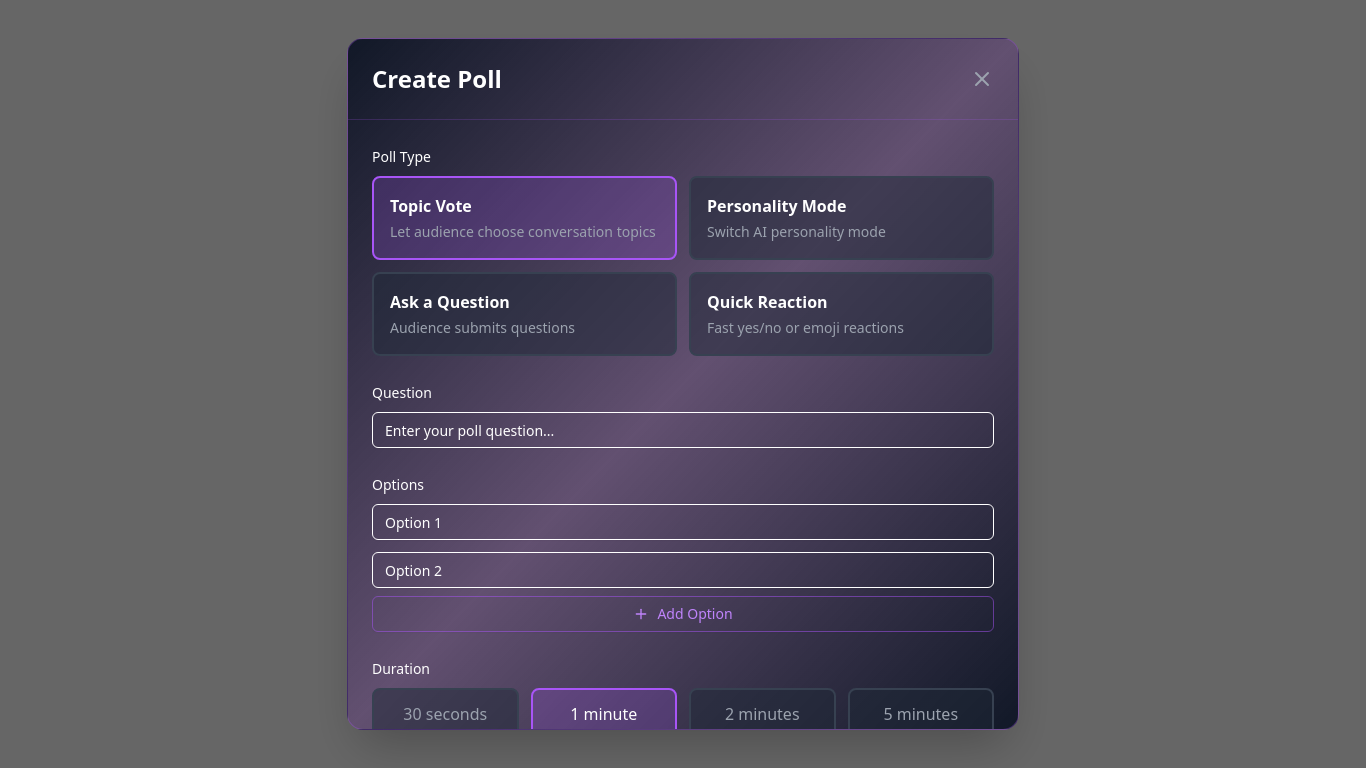
Test case: PollCreationModal › should change poll type and update defaults
// Click on Personality Mode type
Click the button "Personality Mode" at (842, 218), box [689, 176, 994, 260]
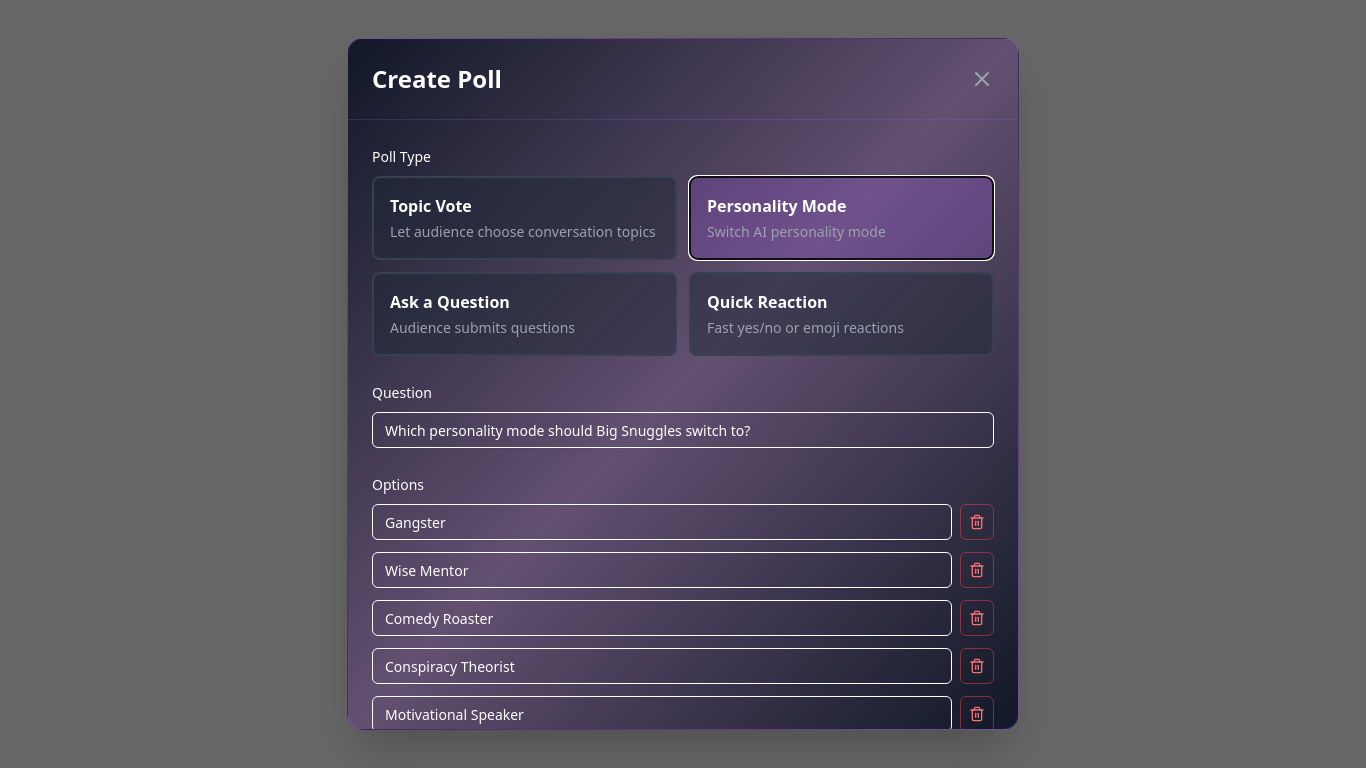
Result: the field with placeholder "Enter your poll question..." holds "Which personality mode should Big Snuggles switch to?" at [372, 412, 994, 448]
Result: the 1st field with placeholder "Option 1" holds "Gangster" at [372, 504, 952, 540]
Result: the 2nd field with placeholder "Option 2" holds "Wise Mentor" at [372, 552, 952, 588]
